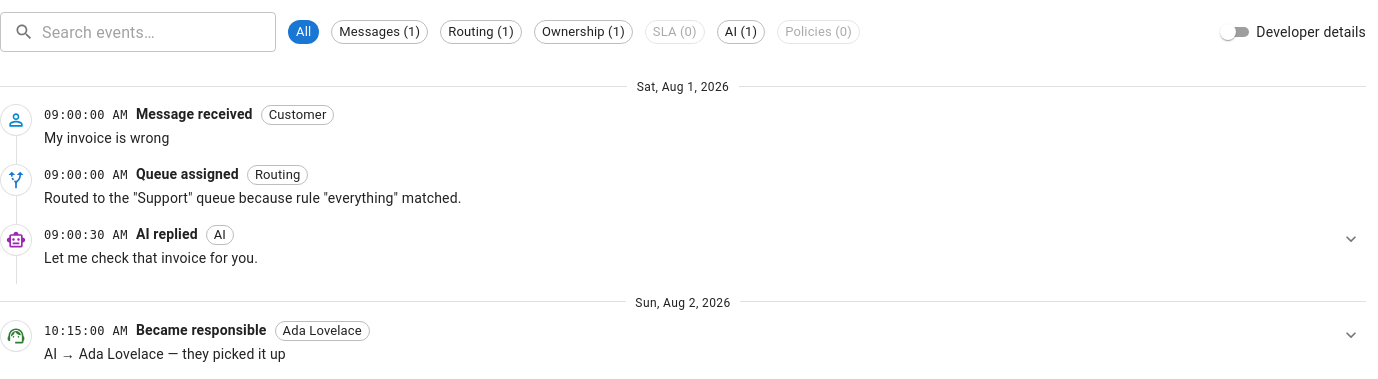
Test case: ConversationTimeline › tells an empty filter apart from an empty conversation
This screenshot has width=1378, height=379.
Later steps or results of the test are not shown.
Type "nothing matches this" into the field labelled "Search events…" at (159, 32), box x1=42 y1=12 x2=276 y2=52
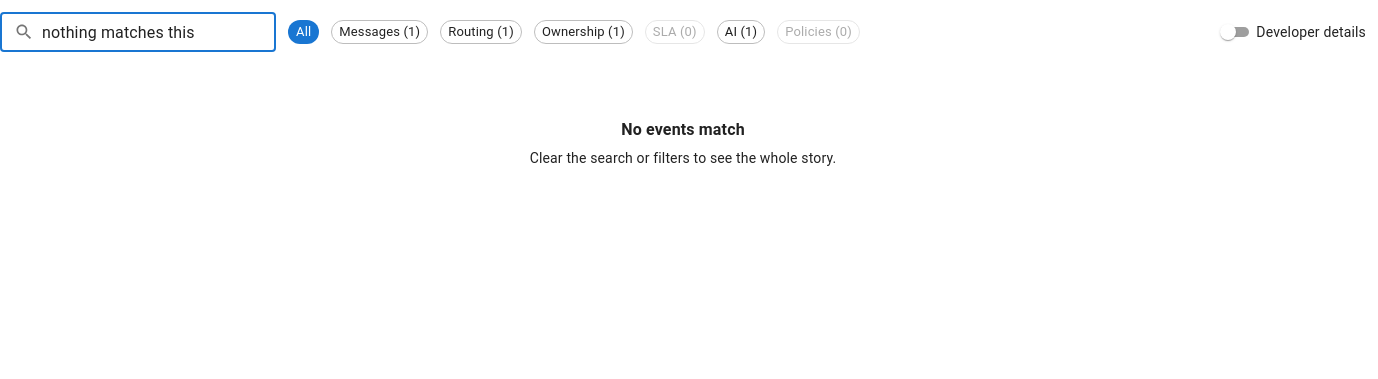
Expected: the heading "No events match" is shown, x1=621 y1=120 x2=745 y2=139
